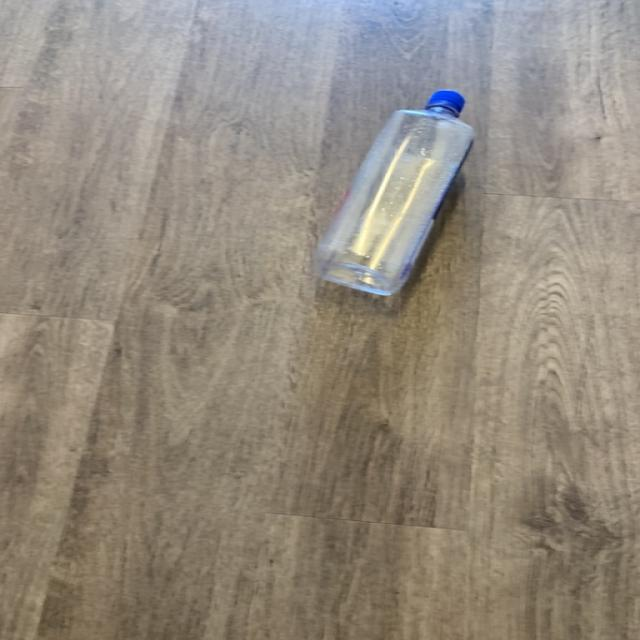Waste: (316, 90, 475, 295)
